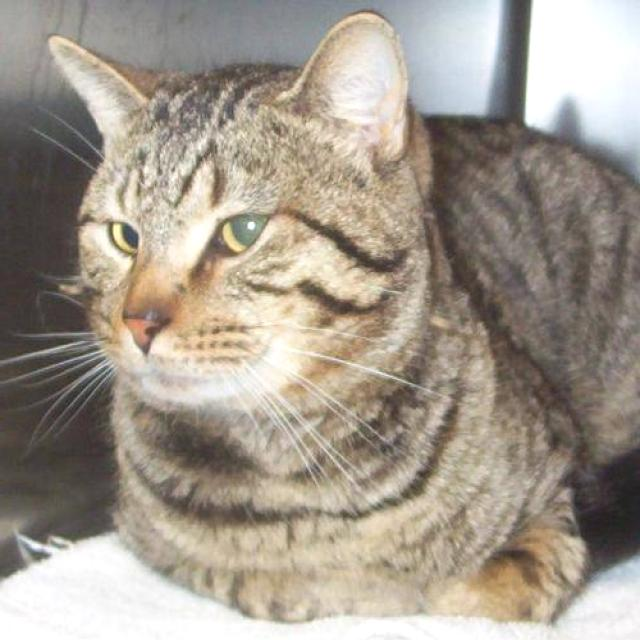Kucing: (32, 4, 619, 640)
